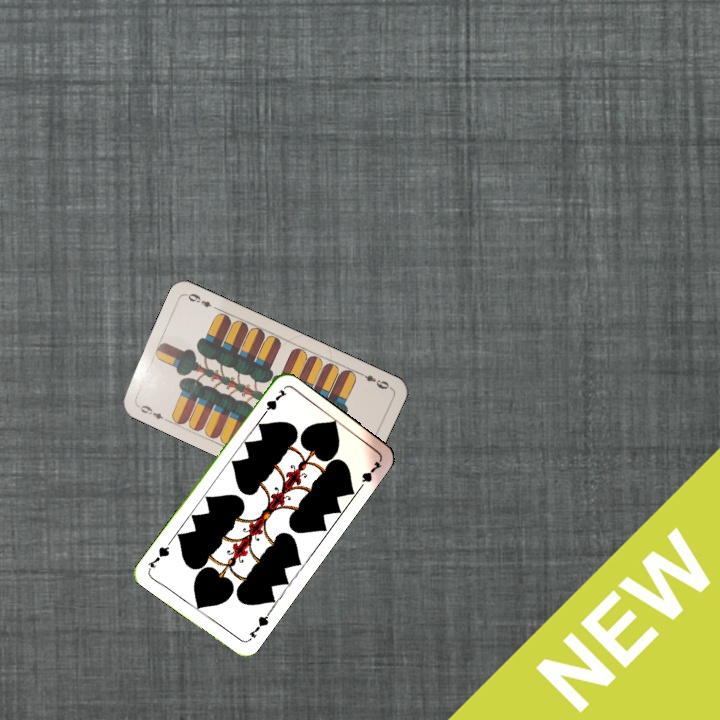E9: (133, 400, 171, 424), (355, 368, 392, 392)
G7: (257, 385, 289, 420), (244, 609, 272, 644)
